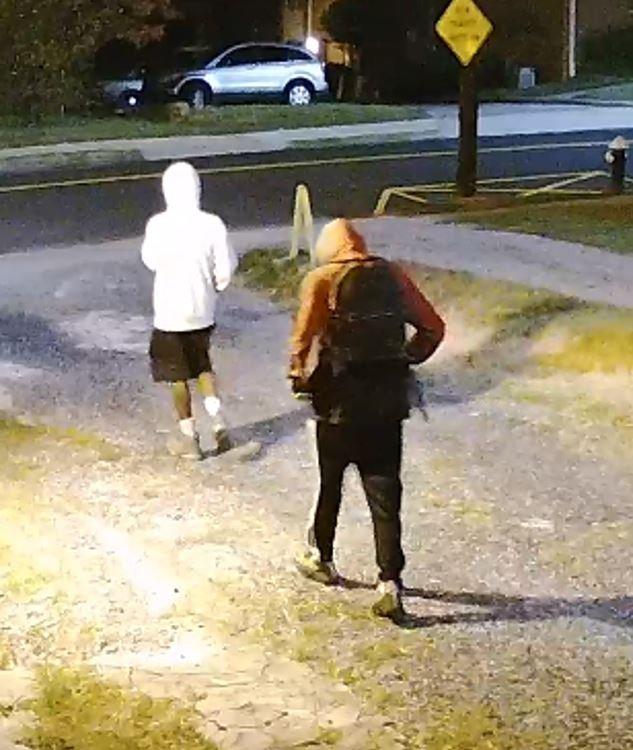Person: (282, 214, 452, 634), (138, 157, 250, 466)
